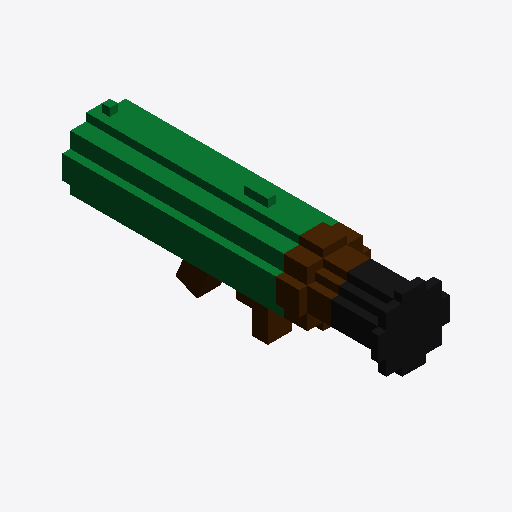
Isometric view (azimuth 45°, elevation 35.3°) of a Minecraft model made of 22 cuboids, textured from the same repository.
Parts seen in each view (by area): element 1, element 2, element 4, element 11, element 7, element 9, element 6, element 16, element 18.
Part boxes in pixels (bbox=[...]): element 1: bbox=[70, 99, 362, 330]; element 2: bbox=[62, 149, 306, 317]; element 4: bbox=[86, 103, 346, 257]; element 11: bbox=[378, 277, 441, 376]; element 7: bbox=[307, 281, 377, 348]; element 9: bbox=[323, 245, 408, 303]; element 6: bbox=[315, 268, 385, 316]; element 16: bbox=[252, 300, 291, 344]; element 18: bbox=[176, 260, 221, 297].
Size of the model in its own units: 9 by 15 by 40.